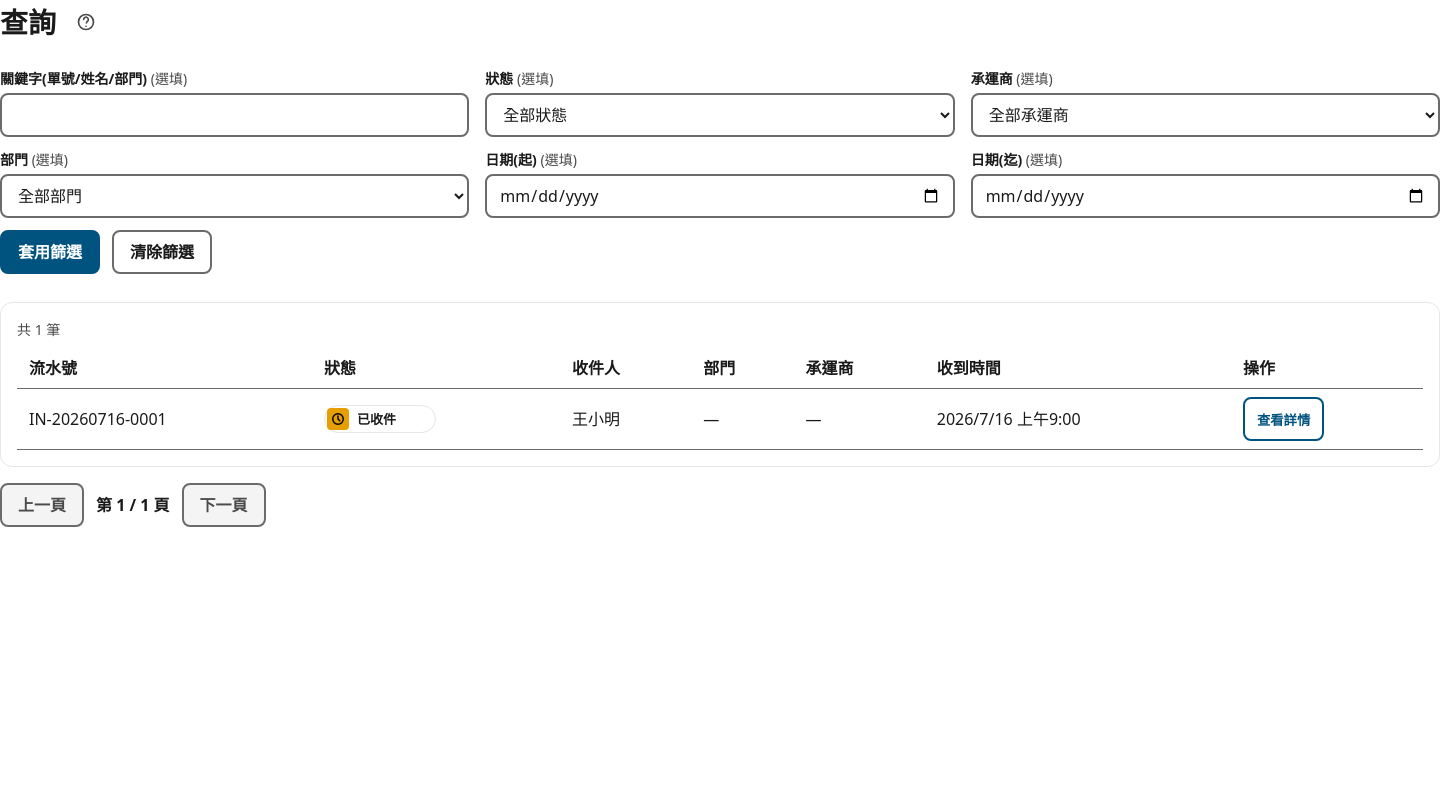
Test: SearchPage — 作廢登記 › 櫃台在明細裡看得到作廢按鈕
The width and height of the screenshot is (1440, 810).
Click the button with class "search-page__detail-btn" at (1284, 419), box [1243,397,1324,441]
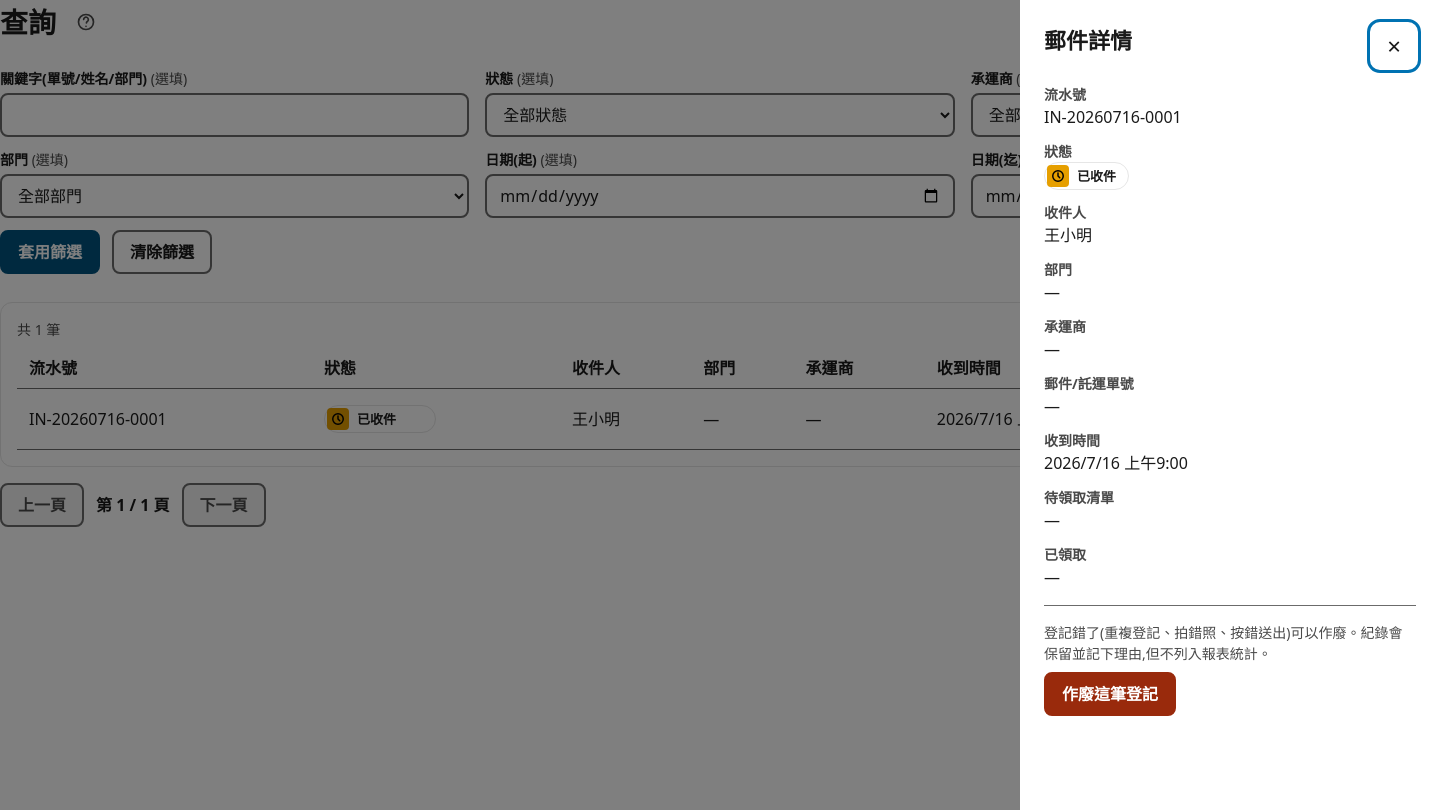
Result: the text "作廢這筆登記" is shown at [1062,686,1158,702]
